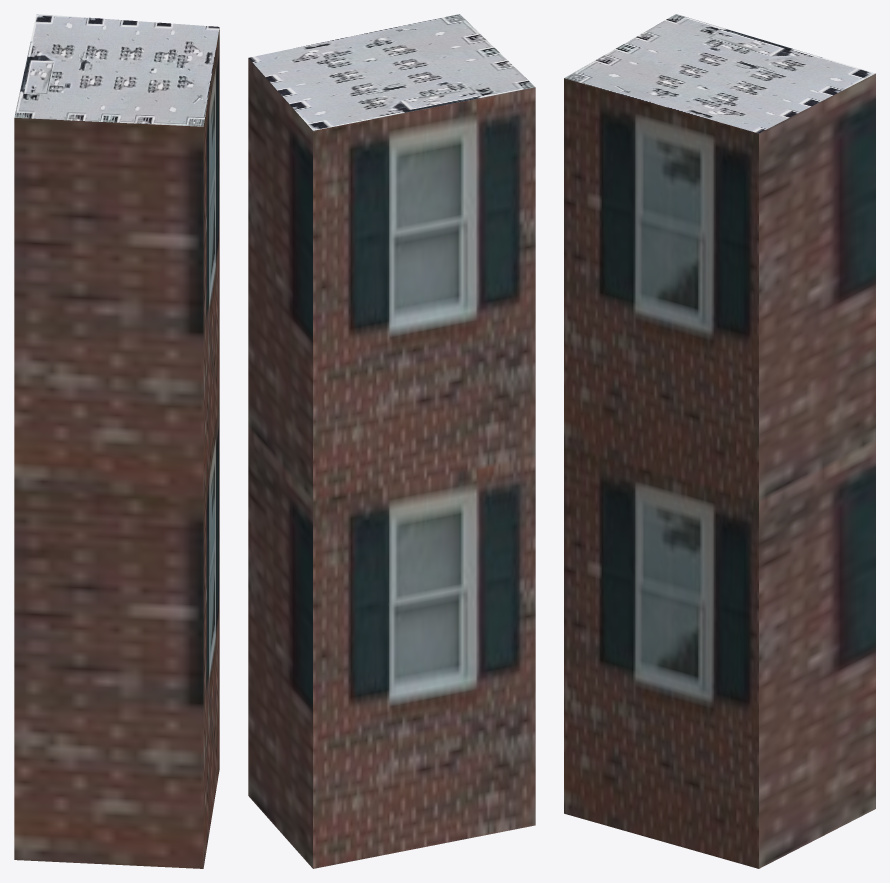
File: ResTex__4708.fbx
The picture shows the model from 3 angles, left to right: view 1: azimuth 30°, elevation 25°; view 2: azimuth 150°, elevation 25°; view 3: azimuth 270°, elevation 25°; orthographic projection.
Visible parts, largest first — view 1: CityEngineMaterial_14_m, CityEngineMaterial_m; view 2: CityEngineMaterial_14_m, CityEngineMaterial_m; view 3: CityEngineMaterial_14_m, CityEngineMaterial_m.
Part boxes in pixels (<box>): CityEngineMaterial_14_m: <box>14,28,219,868</box>; CityEngineMaterial_m: <box>14,14,219,126</box>; CityEngineMaterial_14_m: <box>248,58,535,868</box>; CityEngineMaterial_m: <box>248,14,534,130</box>; CityEngineMaterial_14_m: <box>564,73,875,868</box>; CityEngineMaterial_m: <box>564,14,875,133</box>.
Size of the model in its own units: 2.09 by 6 by 2.31.
2 materials, 2 textured.
